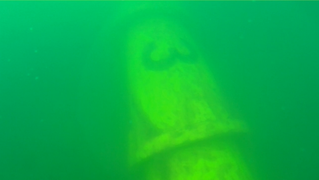3: (141, 38, 199, 71)
pipe: (107, 1, 254, 179)
